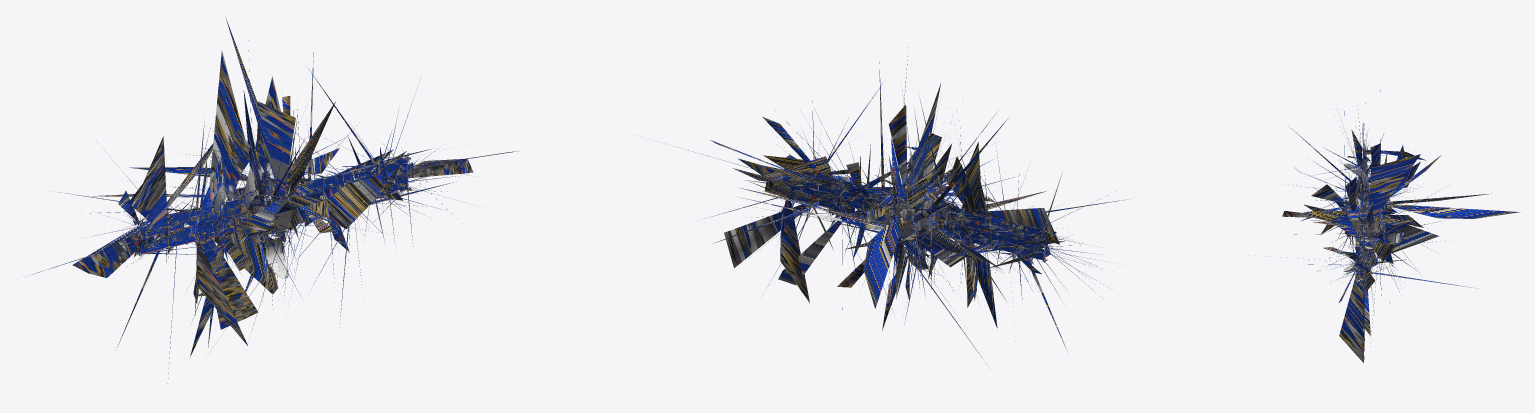
Rendered from solar_satellite-v2.glb.
3 renders of one model, left to right at view 1: azimuth 30°, elevation 25°; view 2: azimuth 150°, elevation 25°; view 3: azimuth 270°, elevation 25°, orthographic. The views are drawn at different scales.
Visible parts, largest first — view 1: tripo_node_45d77255-8681-477f-b656-15046fe1d42a; view 2: tripo_node_45d77255-8681-477f-b656-15046fe1d42a; view 3: tripo_node_45d77255-8681-477f-b656-15046fe1d42a.
Boxes of the visible parts, box(x1,y1,x2,y2) form: tripo_node_45d77255-8681-477f-b656-15046fe1d42a: box(31, 16, 519, 383); tripo_node_45d77255-8681-477f-b656-15046fe1d42a: box(673, 47, 1127, 362); tripo_node_45d77255-8681-477f-b656-15046fe1d42a: box(1265, 90, 1520, 362).
Size of the model in its own units: 2.09 by 1.34 by 1.23.
Materials: 1 (1 with a texture image).
